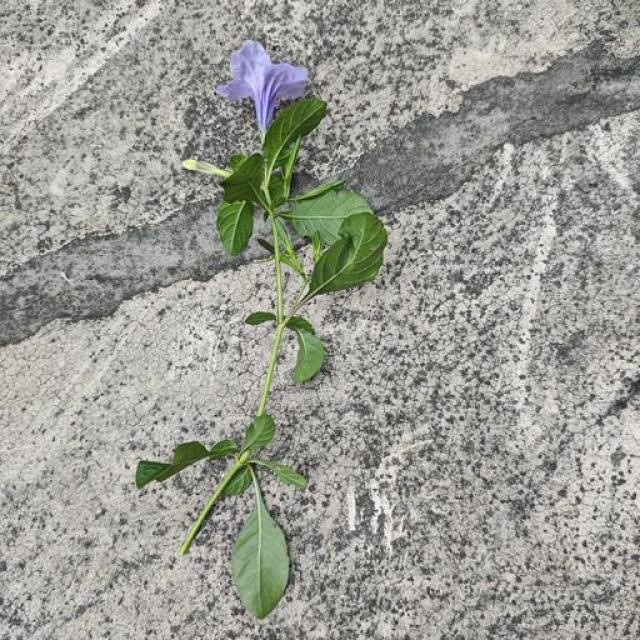organic: (137, 99, 387, 618), (232, 480, 288, 618), (308, 213, 387, 297), (180, 457, 247, 554), (263, 99, 326, 176), (287, 190, 371, 244), (137, 442, 209, 488), (287, 317, 324, 382), (288, 324, 324, 382), (222, 154, 263, 203), (217, 202, 253, 254), (253, 460, 307, 489), (295, 180, 346, 201), (244, 414, 274, 449), (135, 460, 171, 488), (182, 159, 231, 177), (224, 467, 251, 496), (210, 440, 238, 459), (245, 312, 276, 326), (287, 317, 314, 333), (229, 154, 247, 171)
